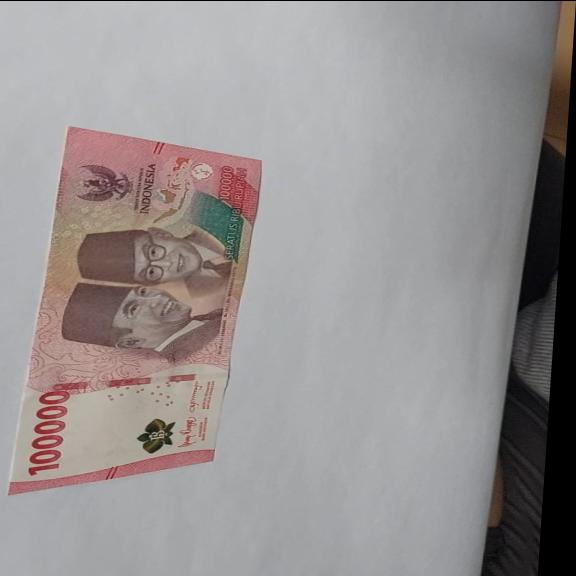Kertas: (6, 124, 266, 494), (24, 389, 72, 476)
